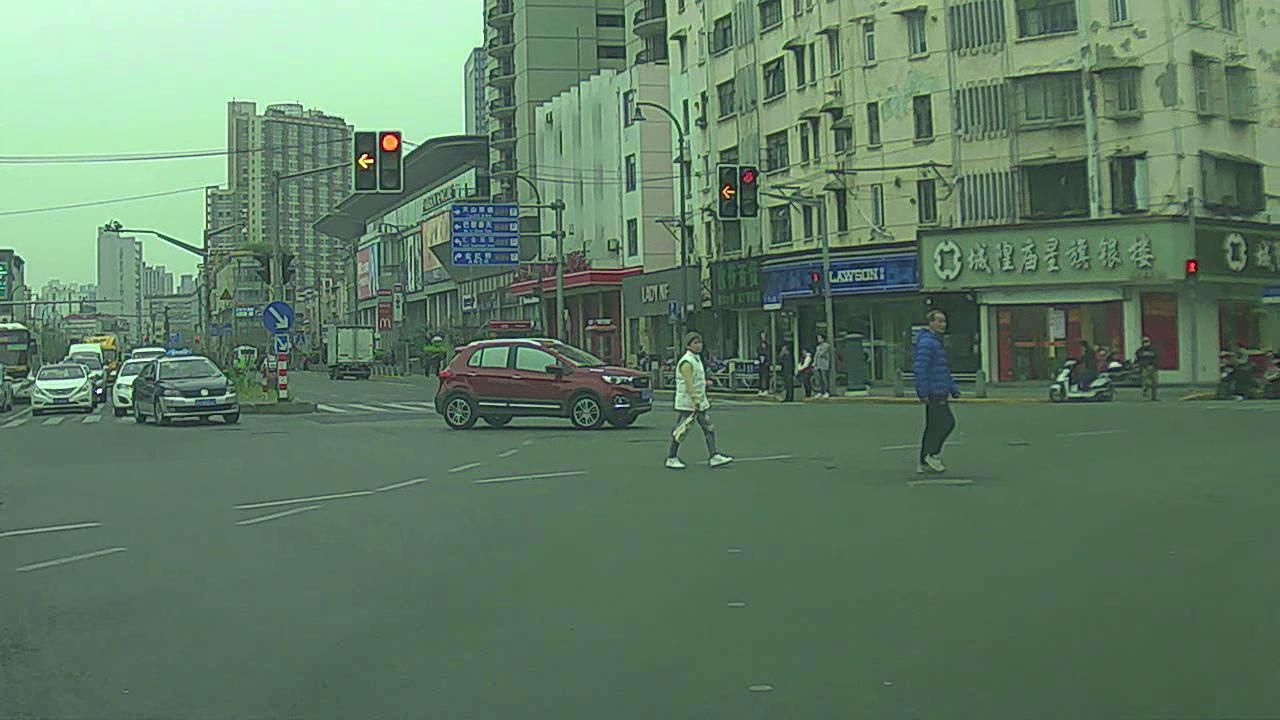traffic_light: (377, 127, 407, 196), (353, 127, 381, 189), (739, 163, 763, 214), (720, 164, 742, 218)
